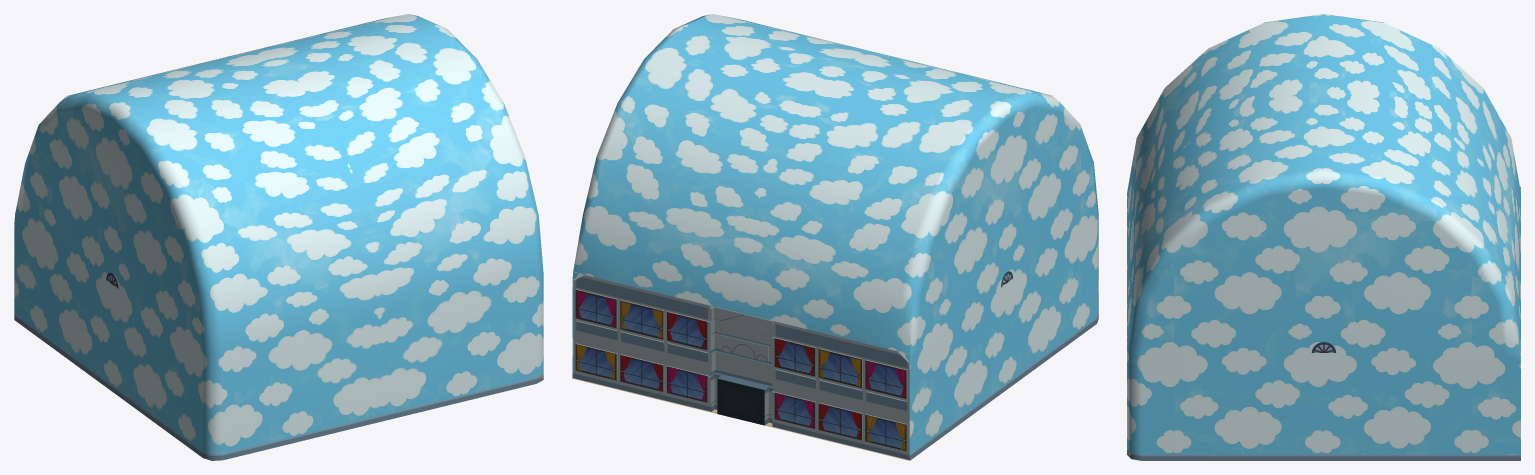
File: Map_Cauvong.fbx
The picture shows the model from 3 angles, left to right: view 1: azimuth 30°, elevation 25°; view 2: azimuth 150°, elevation 25°; view 3: azimuth 270°, elevation 25°; orthographic projection.
Parts seen in each view (by area): view 1: SM_Map; view 2: SM_Map; view 3: SM_Map.
Part boxes in pixels (x1,y1,x2,y2): SM_Map: (14, 14, 543, 460); SM_Map: (572, 14, 1098, 460); SM_Map: (1127, 14, 1520, 460).
Size of the model in its own units: 2400 by 1926 by 2400.
